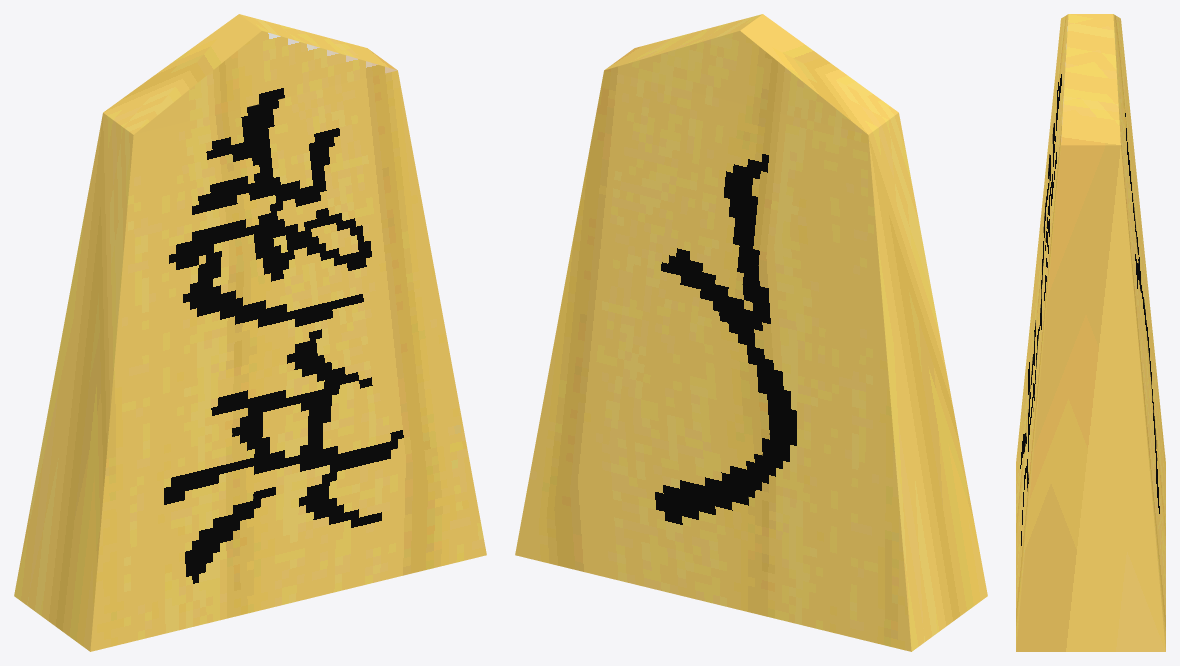
Rendered from ps2_save-icons_moritashougi-systemfile.glb.
3 views of the same model, side by side, from view 1: azimuth 30°, elevation 25°; view 2: azimuth 150°, elevation 25°; view 3: azimuth 270°, elevation 25° (orthographic).
Visible parts, largest first — view 1: icon1.ico; view 2: icon1.ico; view 3: icon1.ico.
Part boxes in pixels (box(x1,y1,x2,y2)): icon1.ico: box(14, 14, 486, 651); icon1.ico: box(515, 14, 987, 651); icon1.ico: box(1016, 14, 1165, 651).
Size of the model in its own units: 2.25 by 3 by 0.75.
Materials: 1 (1 with a texture image).
